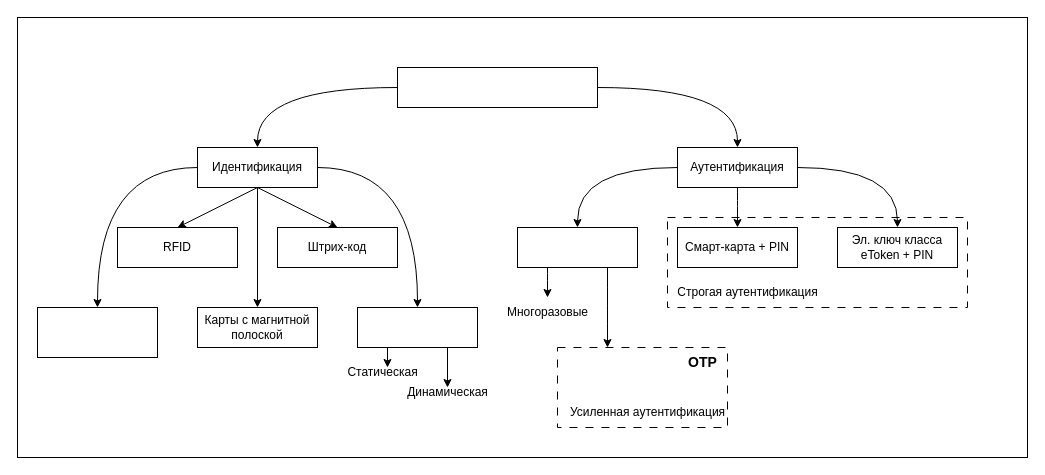
This 1045x475 diagram has some shape labels left out. The centre of each missing label's shape, as x and y in pixels:
"Биометрия" goes at [417,327].
"Идентификация и аутентификация" goes at [497,87].
"Пароли" goes at [577,247].
"Электронные ключи класса Touch Memory" goes at [97,332].
